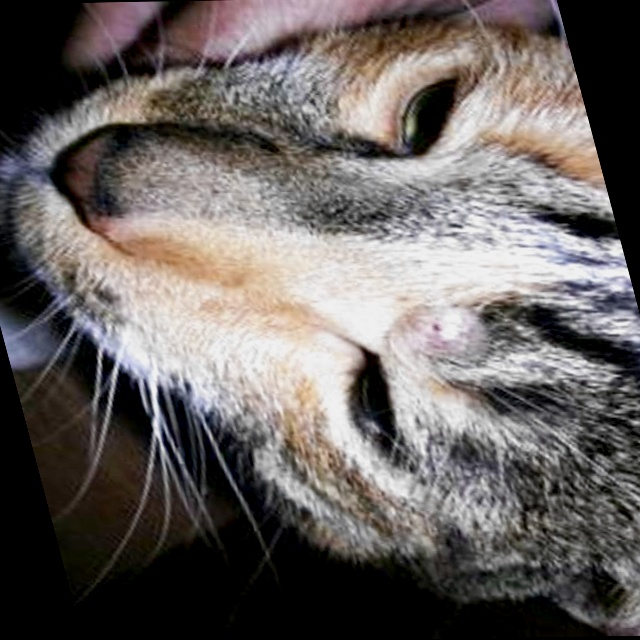lump_and_bump: (395, 307, 490, 362)
